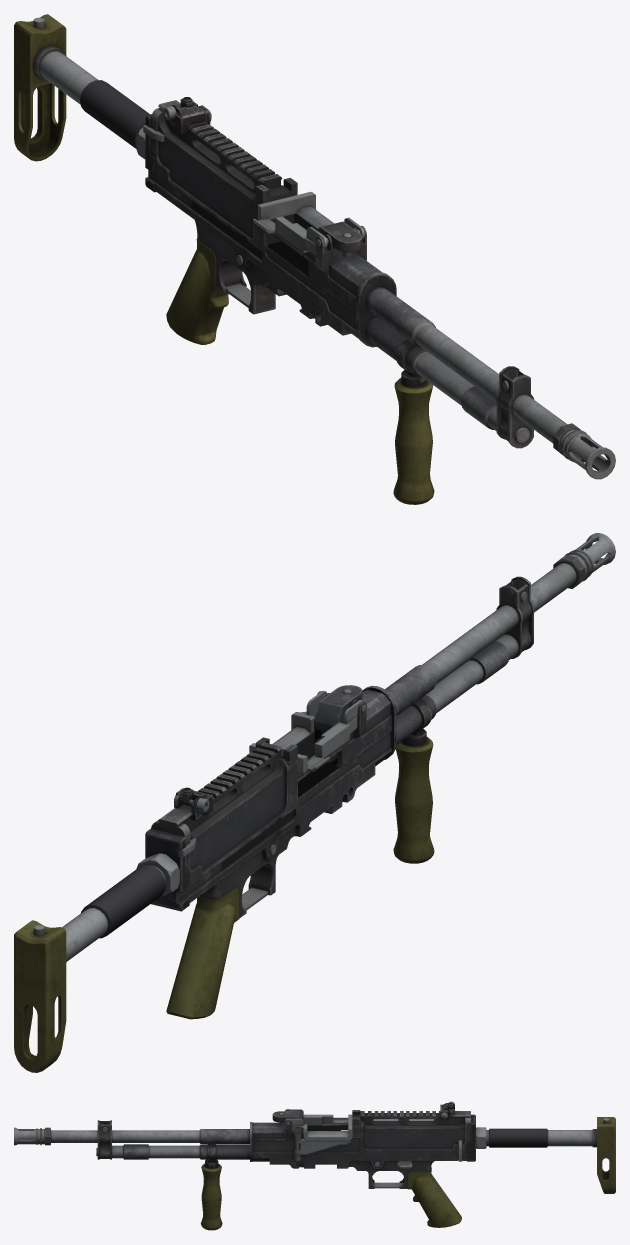
File: lmg1.fbx
3 views of the same model, one above another, from view 1: azimuth 30°, elevation 25°; view 2: azimuth 150°, elevation 25°; view 3: azimuth 270°, elevation 25° (orthographic). The views are drawn at different scales.
Visible parts, largest first — view 1: base; view 2: base; view 3: base.
Boxes of the visible parts, x1,y1,x2,y2 form: base: (14, 14, 615, 504); base: (14, 533, 615, 1072); base: (14, 1101, 615, 1230).
Size of the model in its own units: 6.87 by 24.42 by 108.
